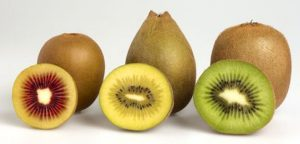kiwi: (195, 15, 291, 137), (13, 16, 104, 135), (99, 19, 193, 129)
